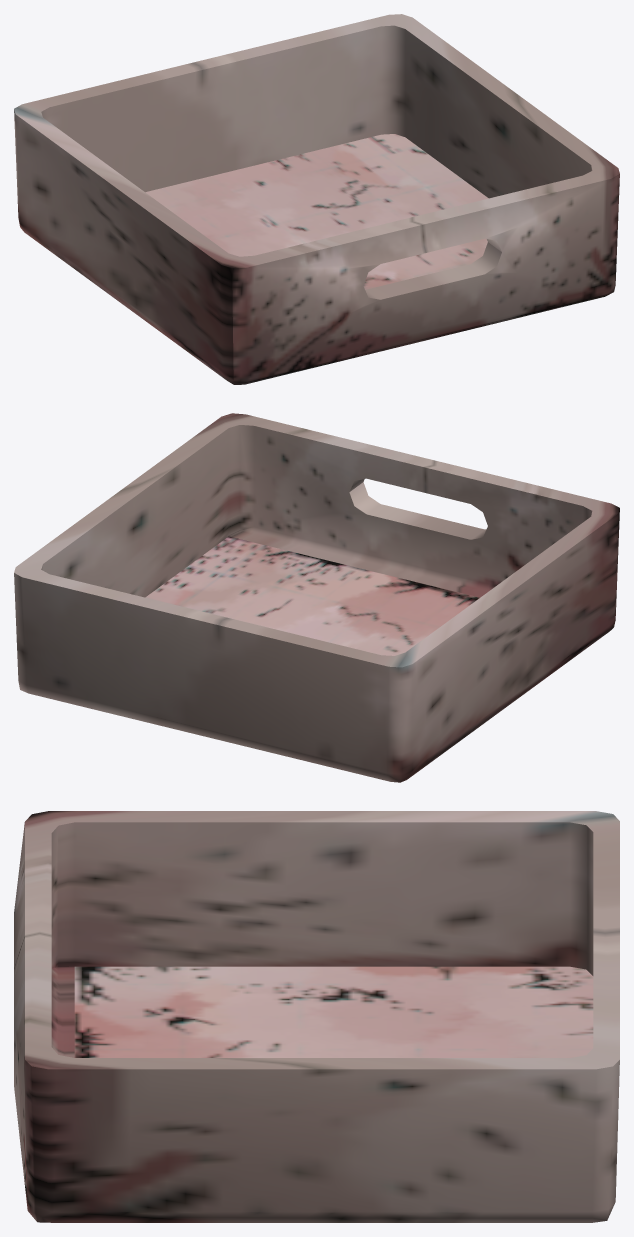
The model's file is CounterDrawer.fbx.
3 views of the same model, one above another, from view 1: azimuth 30°, elevation 25°; view 2: azimuth 150°, elevation 25°; view 3: azimuth 270°, elevation 25° (orthographic). The views are drawn at different scales.
Parts seen in each view (by area): view 1: CounterDrawer; view 2: CounterDrawer; view 3: CounterDrawer.
Part boxes in pixels (x1,y1,x2,y2): CounterDrawer: [14, 14, 619, 384]; CounterDrawer: [14, 413, 619, 782]; CounterDrawer: [14, 811, 619, 1222].
Size of the model in its own units: 58.55 by 17.34 by 58.08.
